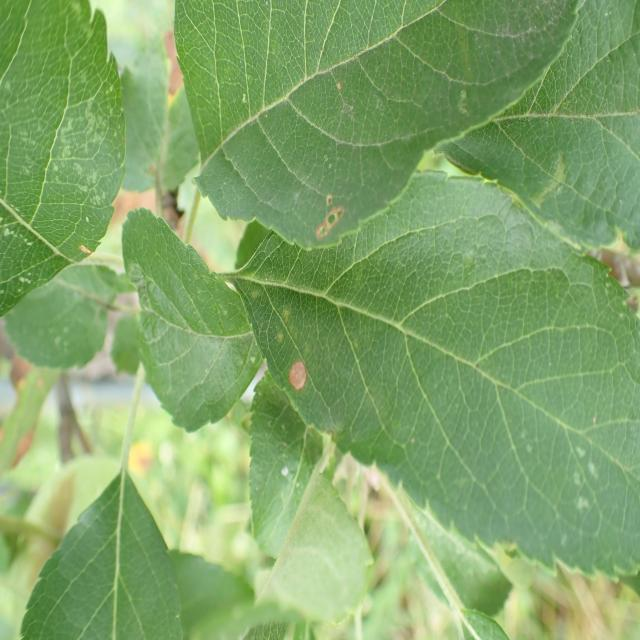Black Rot: (305, 176, 347, 260), (267, 357, 325, 406)
